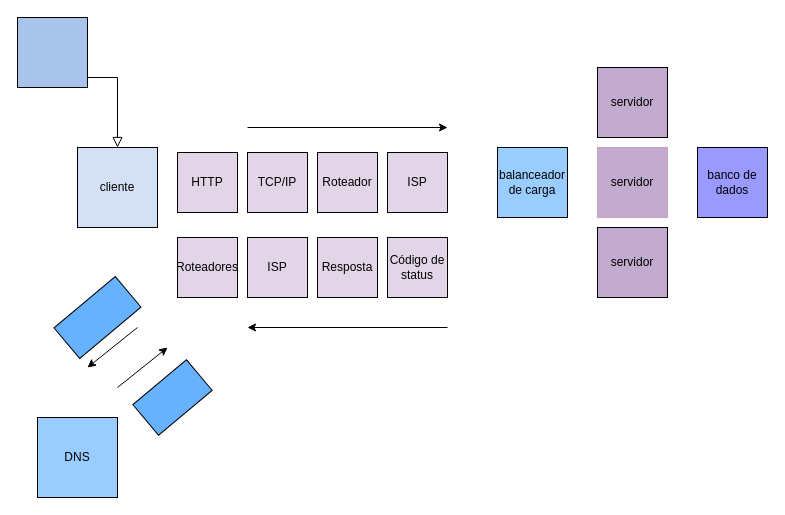
The diagram is 785 pixels wide and 515 high, and some of its shapes have lost their labels. Here are the shapes that lost their labels. From the top down, the centre of each, then its label:
At pixel 52 52: "Usuário".
At pixel 97 317: "google.com".
At pixel 172 397: "IP".
